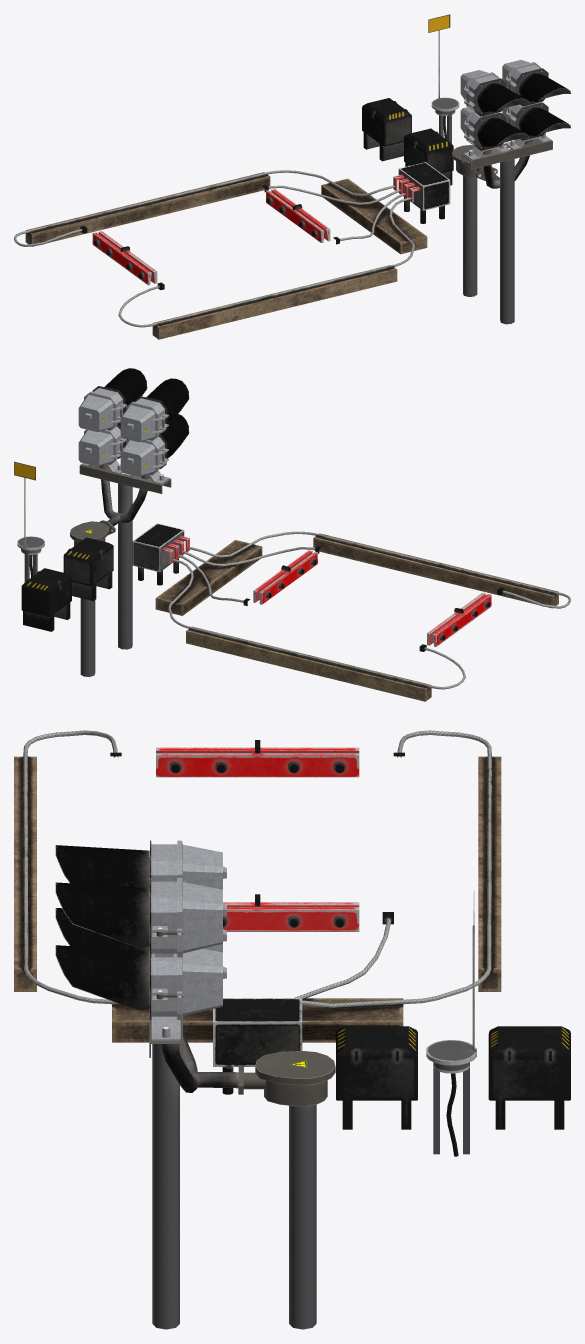
The model's file is RM_sig_P_KM1_GR+YW_2+2_exit.gltf.
3 renders of one model, top to bottom at view 1: azimuth 30°, elevation 25°; view 2: azimuth 150°, elevation 25°; view 3: azimuth 270°, elevation 25°, orthographic. The views are drawn at different scales.
Visible parts, largest first — view 1: Изостык, Светофор 2+2; view 2: Изостык, Светофор 2+2; view 3: Изостык, Светофор 2+2.
Part boxes in pixels (bbox=[...]): Изостык: bbox=[14, 14, 459, 339]; Светофор 2+2: bbox=[452, 60, 570, 324]; Изостык: bbox=[14, 461, 570, 701]; Светофор 2+2: bbox=[70, 368, 189, 676]; Изостык: bbox=[14, 730, 570, 1156]; Светофор 2+2: bbox=[55, 840, 335, 1329].
Size of the model in its own units: 4.18 by 2.2 by 2.43.
Materials: 2 (2 with a texture image).
